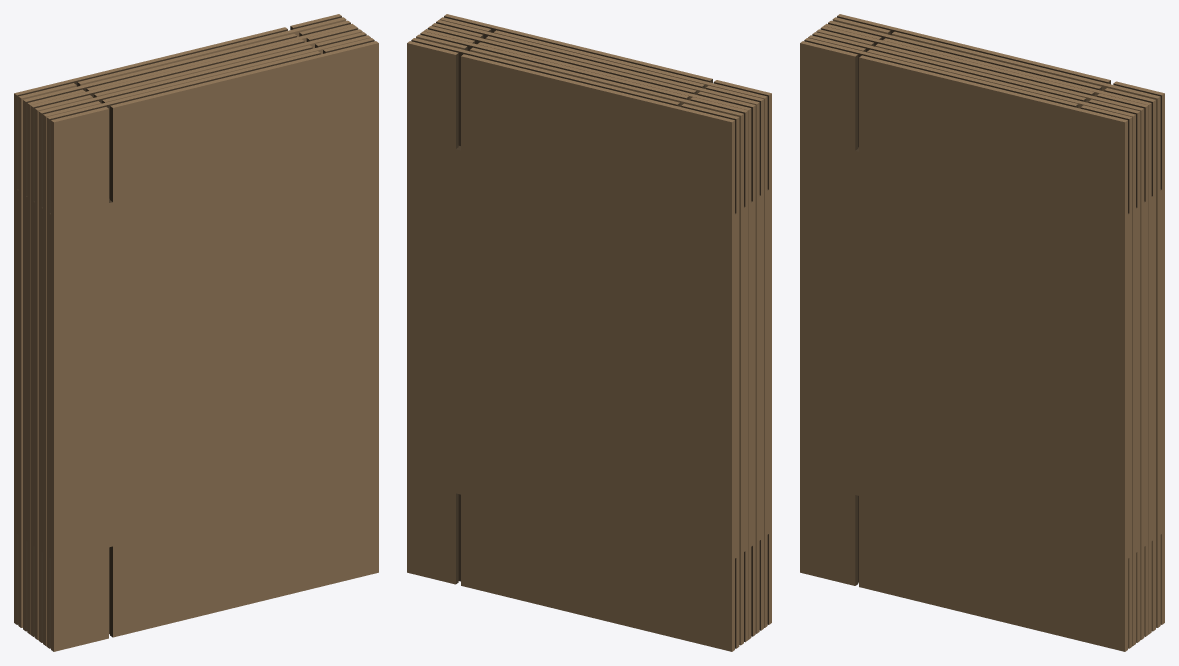
The model's file is folded boxes.fbx.
3 renders of one model, left to right at view 1: azimuth 30°, elevation 25°; view 2: azimuth 150°, elevation 25°; view 3: azimuth 330°, elevation 25°, orthographic.
Visible parts, largest first — view 1: Folded Box; view 2: Folded Box; view 3: Folded Box.
Part boxes in pixels (<box>): Folded Box: <box>14,14,378,651</box>; Folded Box: <box>407,14,771,651</box>; Folded Box: <box>800,14,1164,651</box>.
Bounding box in the file's own units: 143 × 223 × 30.34.
